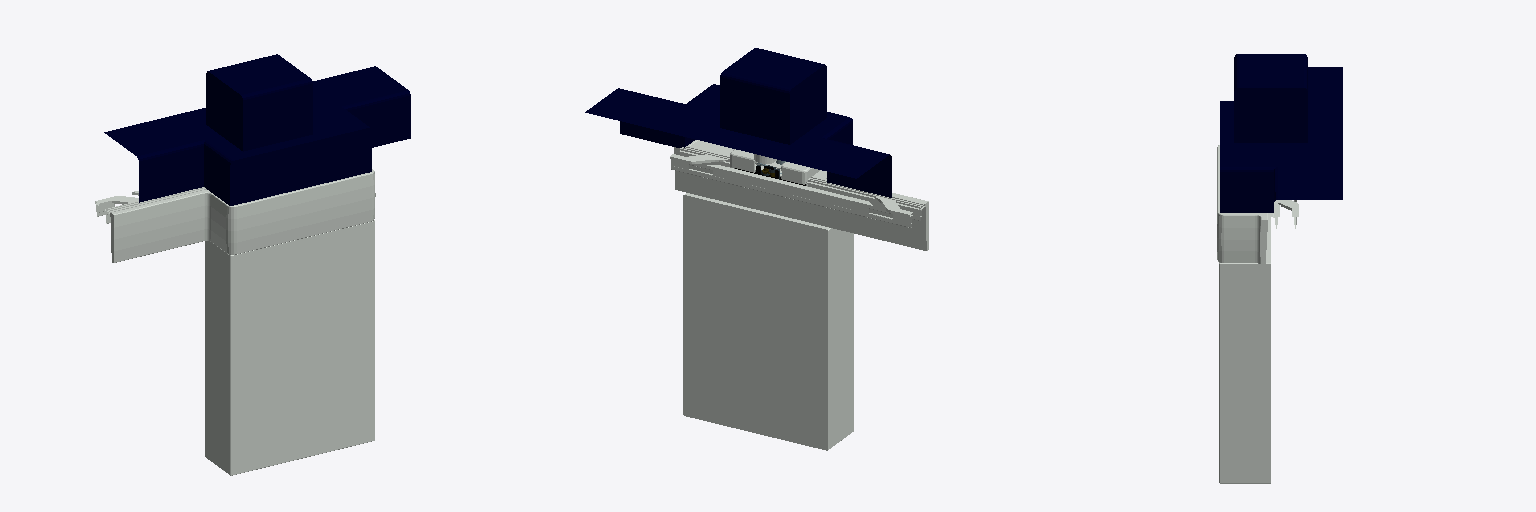
The model's file is Desealer.obj.
3 renders of one model, left to right at view 1: azimuth 30°, elevation 25°; view 2: azimuth 150°, elevation 25°; view 3: azimuth 270°, elevation 25°, orthographic.
Visible parts, largest first — view 1: object1, object23, object5, object22, object4; view 2: object1, object23, object22, object4, object5, object6; view 3: object1, object23, object22, object5.
Part boxes in pixels (bbox=[...]): object1: bbox=[205, 220, 374, 475]; object23: bbox=[104, 66, 410, 205]; object5: bbox=[110, 169, 375, 262]; object22: bbox=[206, 54, 312, 151]; object4: bbox=[95, 187, 206, 223]; object1: bbox=[683, 193, 853, 450]; object23: bbox=[585, 84, 891, 197]; object22: bbox=[720, 48, 826, 144]; object4: bbox=[670, 146, 924, 227]; object5: bbox=[674, 140, 928, 250]; object6: bbox=[730, 149, 819, 186]; object1: bbox=[1219, 217, 1270, 483]; object23: bbox=[1220, 67, 1342, 212]; object22: bbox=[1234, 54, 1307, 142]; object5: bbox=[1217, 145, 1267, 267].
Bounding box in the file's own units: 43.56 × 50.73 × 15.8.